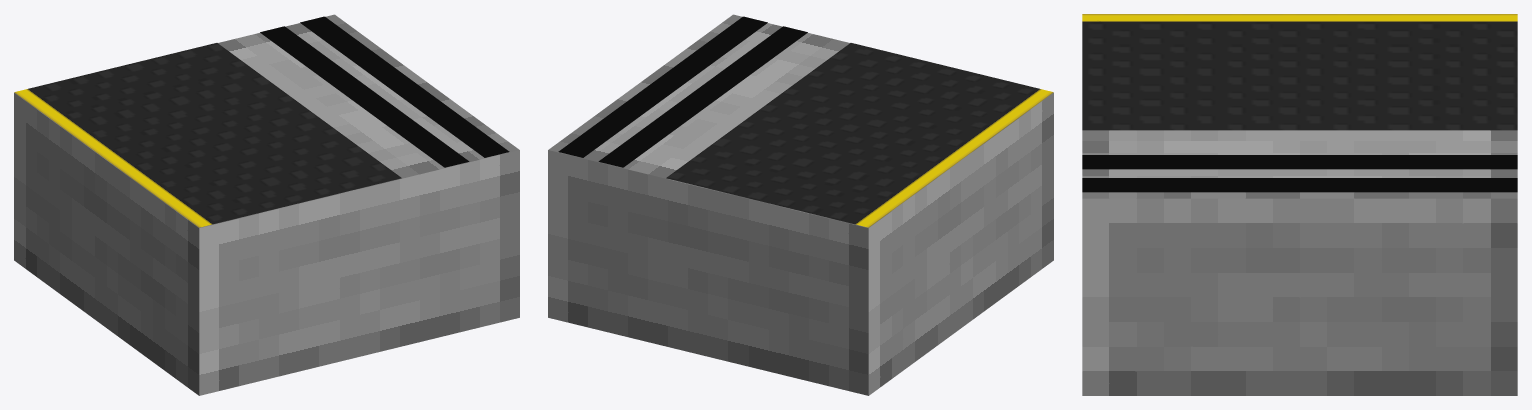
Rendered from es_2_slab_top_flipped.obj.
The picture shows the model from 3 angles, left to right: view 1: azimuth 30°, elevation 25°; view 2: azimuth 150°, elevation 25°; view 3: azimuth 270°, elevation 25°; orthographic projection. The views are drawn at different scales.
Visible parts, largest first — view 1: cube; view 2: cube; view 3: cube.
Boxes of the visible parts, <box> form: cube: <box>14,14,519,395</box>; cube: <box>548,14,1053,395</box>; cube: <box>1082,14,1517,395</box>.
Bounding box in the file's own units: 1 × 0.5016 × 1.
3 materials, 3 textured.
